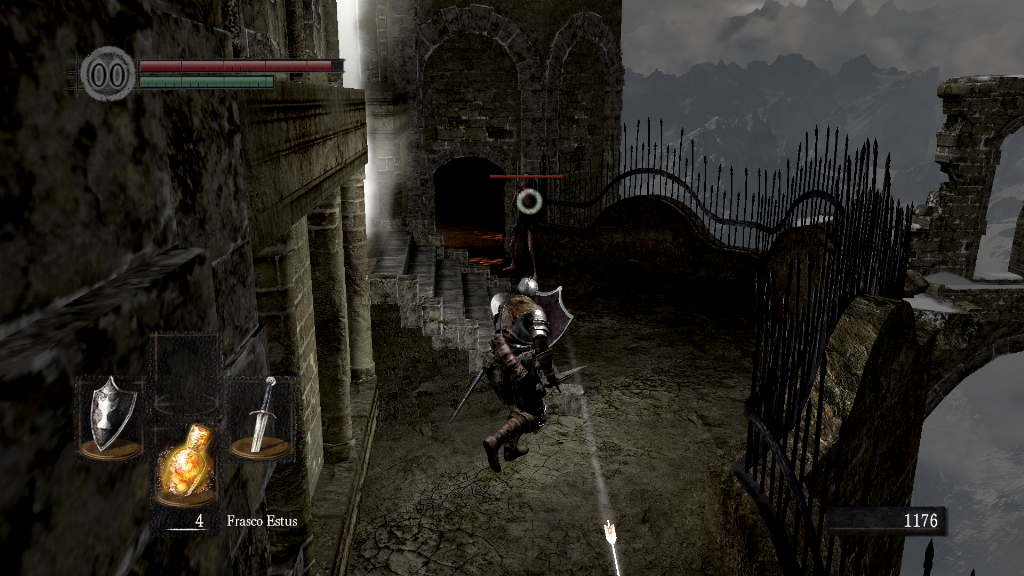health: (138, 58, 343, 71)
hollow: (499, 174, 546, 279)
humanity: (80, 45, 136, 102)
player: (451, 276, 590, 473)
souls: (825, 506, 945, 536)
stamina: (138, 74, 274, 88)
